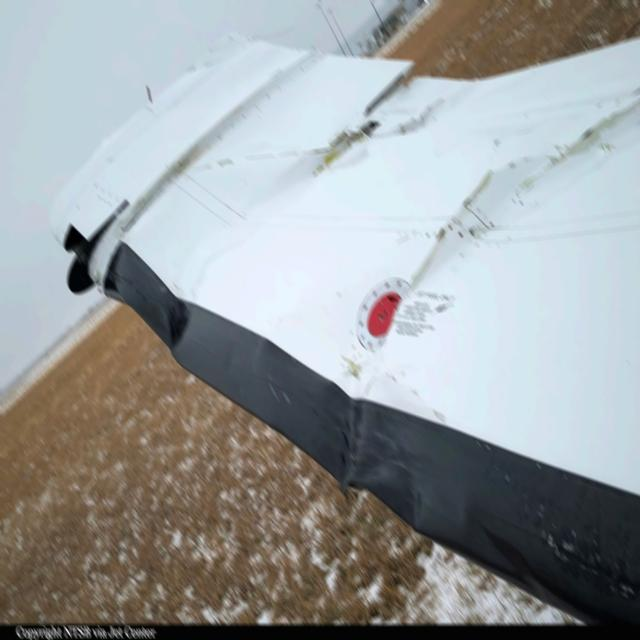crack: (313, 64, 441, 178), (514, 97, 640, 206), (403, 178, 492, 305)
